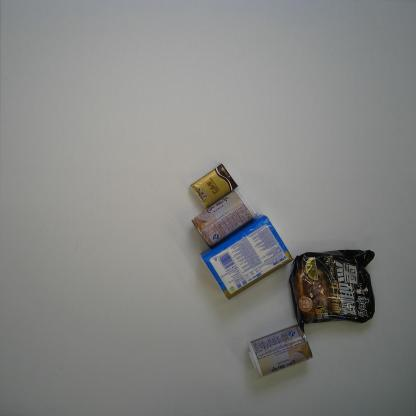Canned Food: (190, 188, 258, 250), (246, 323, 313, 380)
Instant Noodles: (288, 248, 376, 334)
Tissue: (198, 213, 295, 302), (189, 162, 239, 210)
